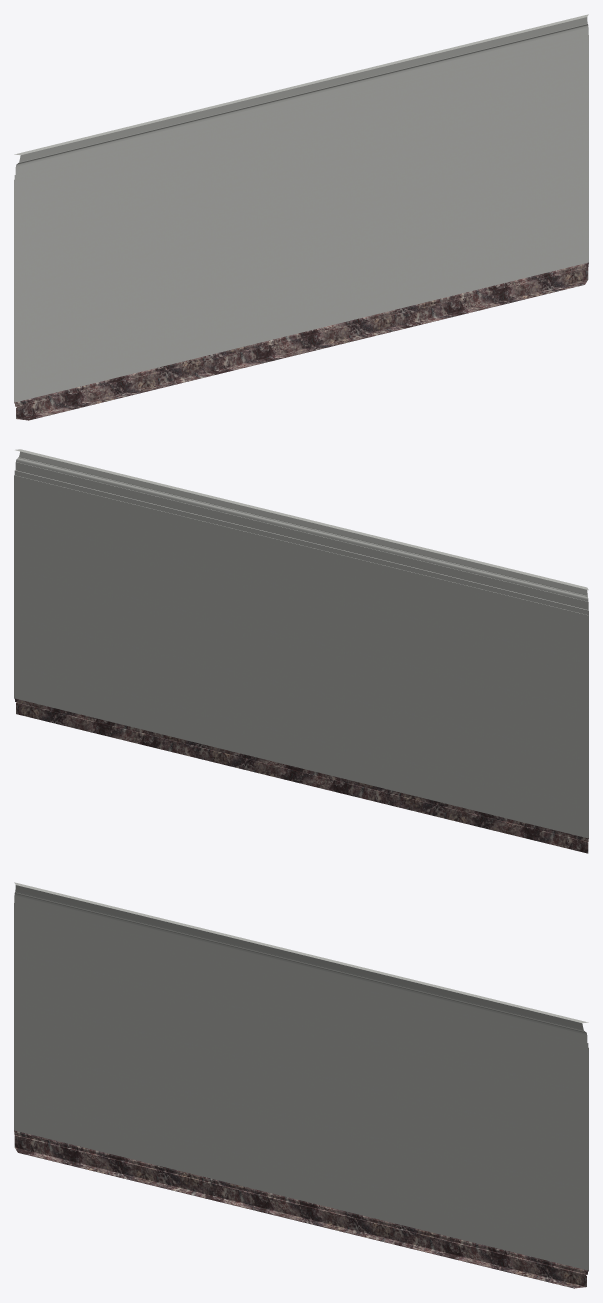
The model's file is Wide Wall No Door.fbx.
3 renders of one model, top to bottom at view 1: azimuth 30°, elevation 25°; view 2: azimuth 150°, elevation 25°; view 3: azimuth 330°, elevation 25°, orthographic.
Parts seen in each view (by area): view 1: Wide_Wall_No_Door, Red_Marble, Deco_Trim; view 2: Wide_Wall_No_Door, Red_Marble, Deco_Trim; view 3: Wide_Wall_No_Door, Red_Marble, Deco_Trim.
Boxes of the visible parts, x1,y1,x2,y2 form: Wide_Wall_No_Door: (14,14,588,402); Red_Marble: (14,262,588,420); Deco_Trim: (19,17,587,162); Wide_Wall_No_Door: (14,449,588,838); Red_Marble: (14,698,588,853); Deco_Trim: (19,451,587,595); Wide_Wall_No_Door: (14,882,588,1270); Red_Marble: (14,1130,588,1288); Deco_Trim: (15,885,583,1030).
Size of the model in its own units: 1762 by 775 by 27.
